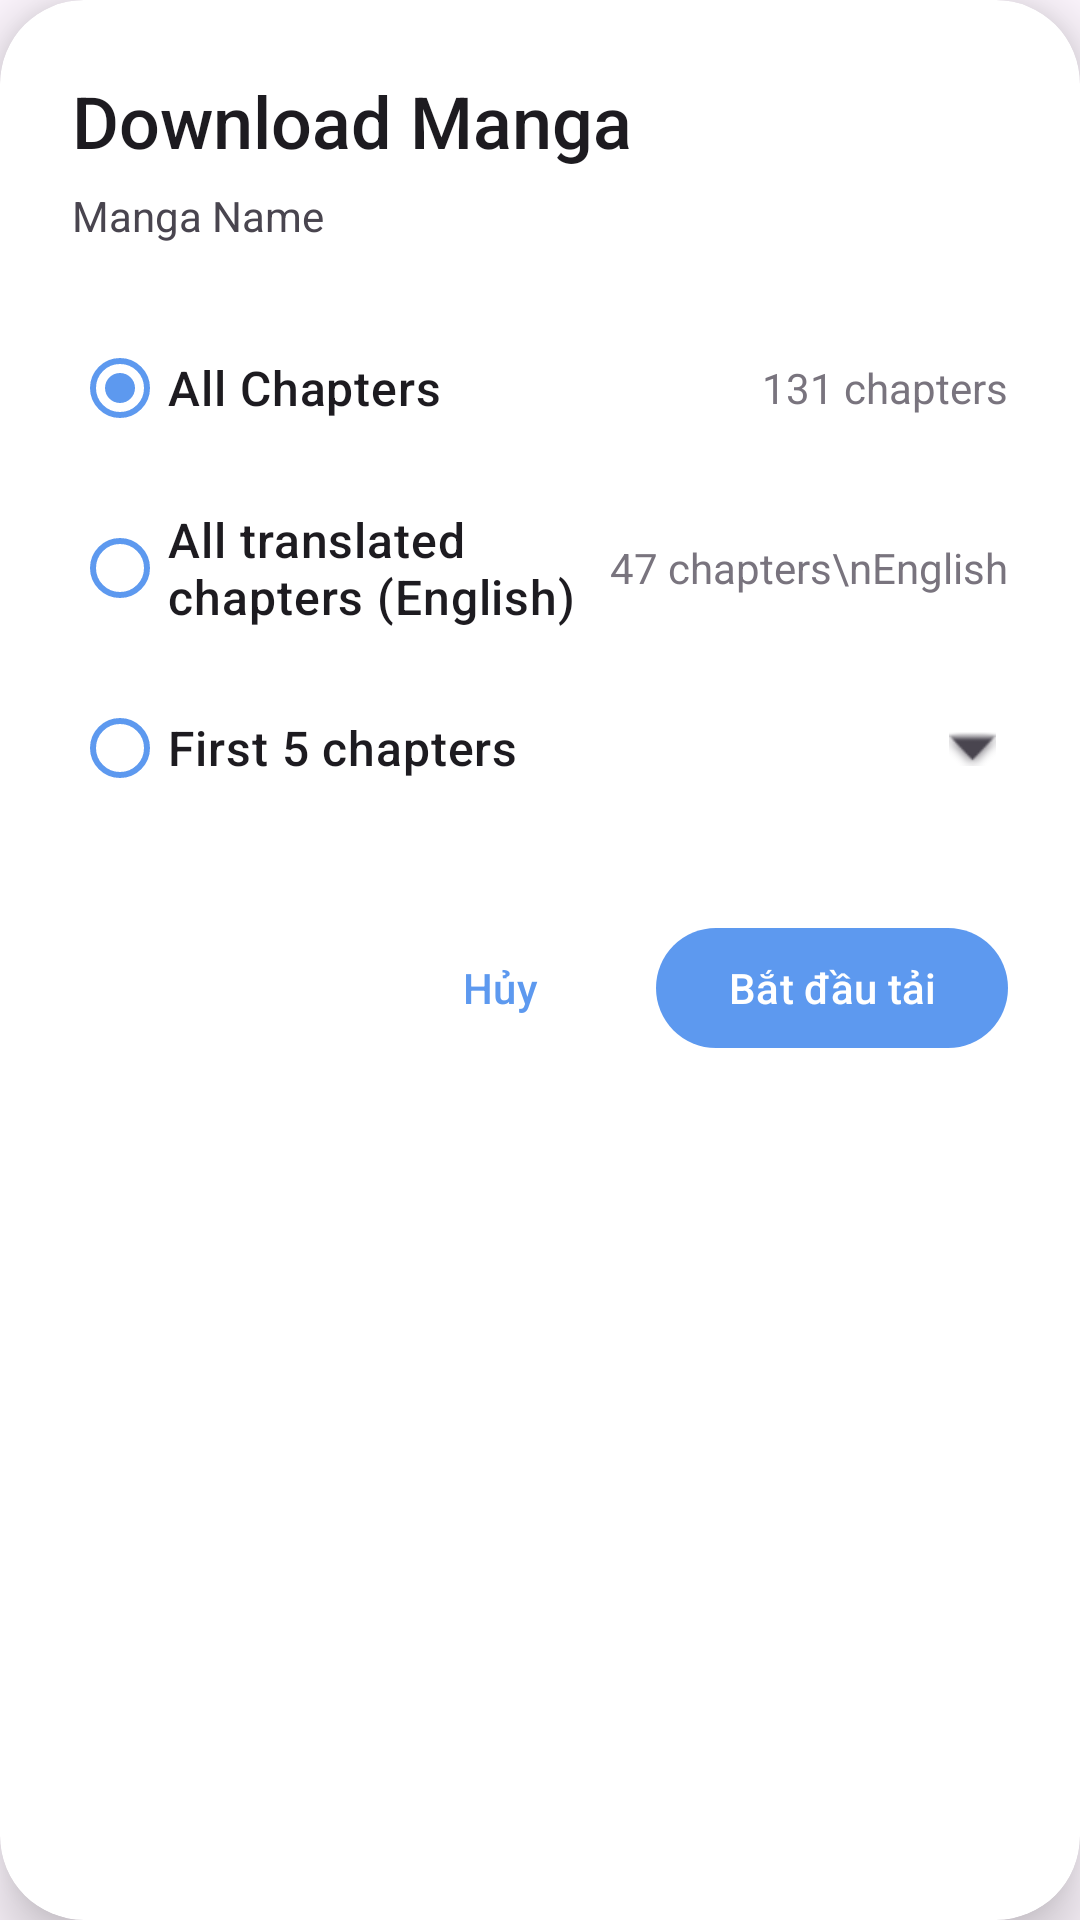

Screen size 1080x1920. Icon name, then its box in pixels as (x1, y1, x2, y2):
Dropdown Arrow: (949, 733, 996, 764)
